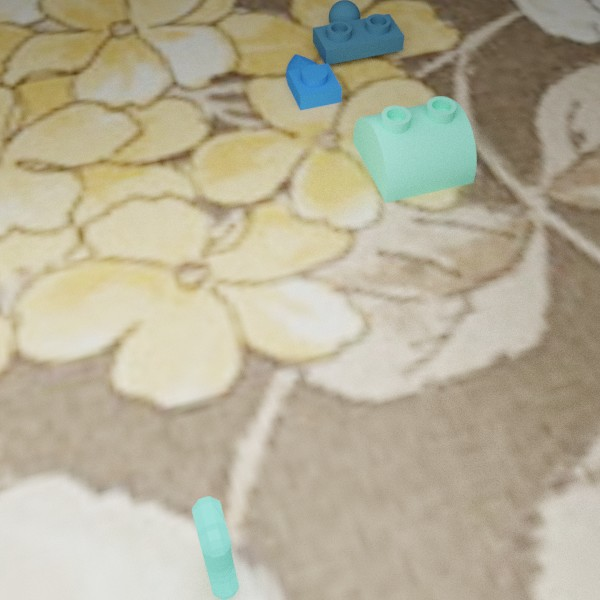lego: (352, 96, 476, 202), (312, 0, 404, 65), (191, 496, 239, 600), (285, 53, 341, 110)
